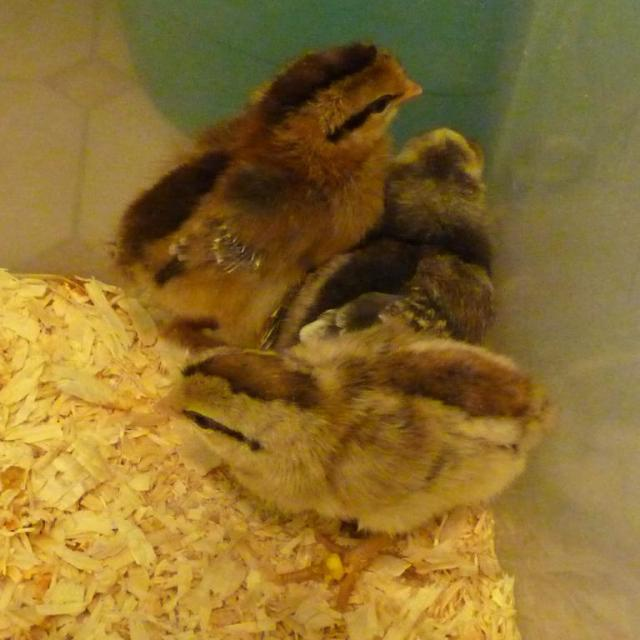Chicken: (152, 315, 558, 615), (108, 26, 416, 372)
